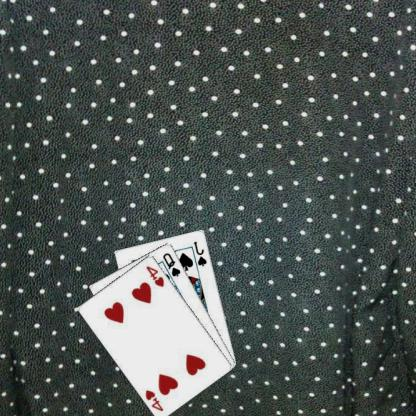4H: (144, 387, 167, 412), (145, 263, 167, 288)
JS: (193, 239, 210, 267)
QS: (162, 250, 184, 278)
